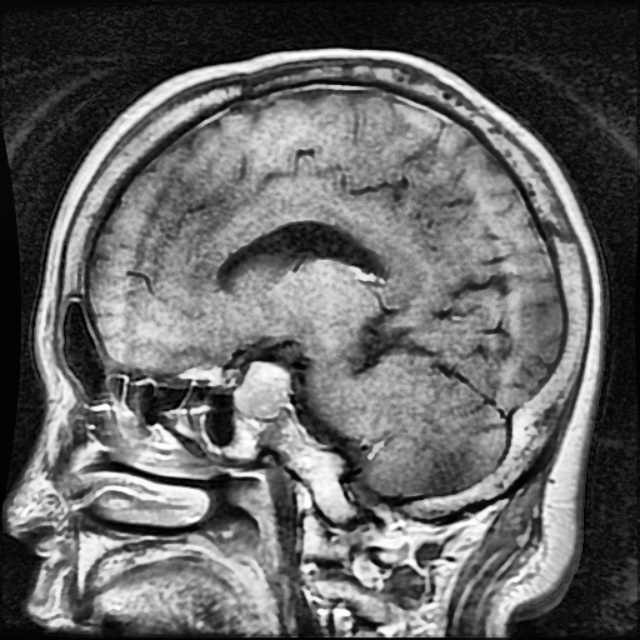Pituitary: (235, 362, 287, 415)
